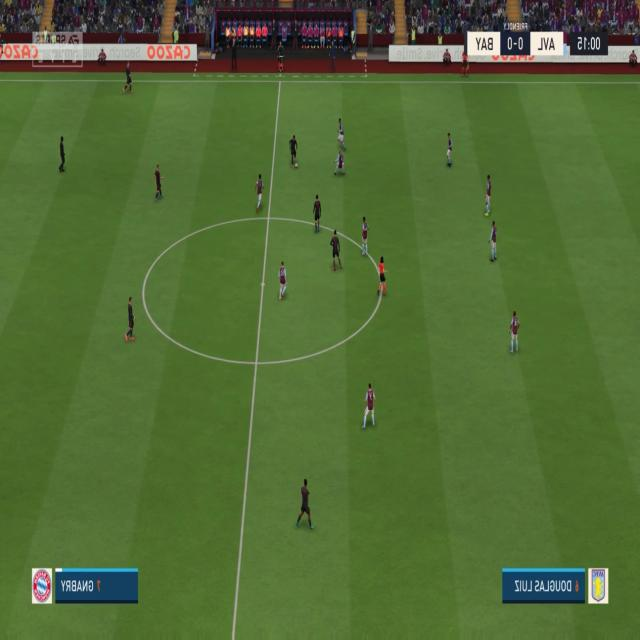Ball: (295, 162, 298, 169)
Referee: (376, 257, 387, 296)
Team-A: (295, 476, 315, 530), (125, 297, 137, 343), (329, 231, 342, 270), (313, 196, 323, 233), (152, 165, 162, 199), (57, 138, 66, 174), (288, 138, 298, 168), (124, 62, 132, 92)
Team-H: (362, 383, 377, 429), (507, 310, 519, 353), (482, 175, 492, 218), (253, 175, 264, 212), (278, 261, 288, 299), (489, 222, 499, 260), (360, 217, 370, 254), (444, 134, 454, 170), (337, 118, 345, 150), (334, 149, 344, 173)
